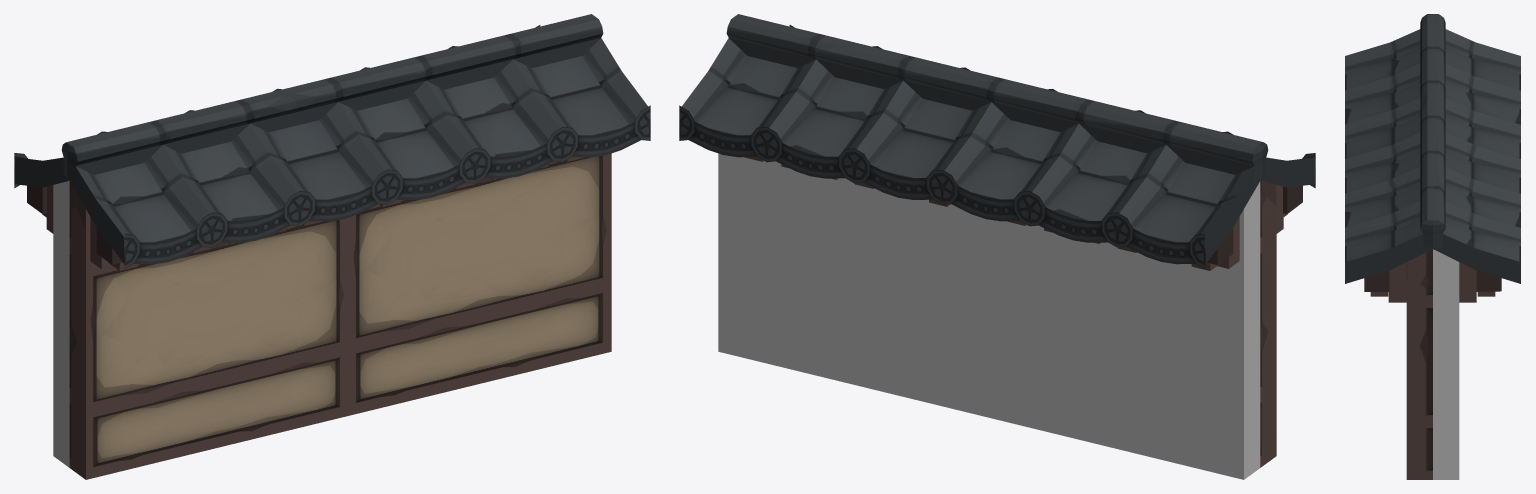
Rendered from SM_Bld_Fence_Dobei_Double_01.fbx.
3 views of the same model, side by side, from view 1: azimuth 30°, elevation 25°; view 2: azimuth 150°, elevation 25°; view 3: azimuth 270°, elevation 25° (orthographic). The views are drawn at different scales.
Parts seen in each view (by area): view 1: SM_Bld_Fence_Dobei_Double_01; view 2: SM_Bld_Fence_Dobei_Double_01; view 3: SM_Bld_Fence_Dobei_Double_01.
Part boxes in pixels (box(x1,y1,x2,y2)): SM_Bld_Fence_Dobei_Double_01: box(14, 14, 650, 479); SM_Bld_Fence_Dobei_Double_01: box(679, 14, 1315, 479); SM_Bld_Fence_Dobei_Double_01: box(1345, 14, 1520, 479).
Bounding box in the file's own units: 505 × 294 × 182.
